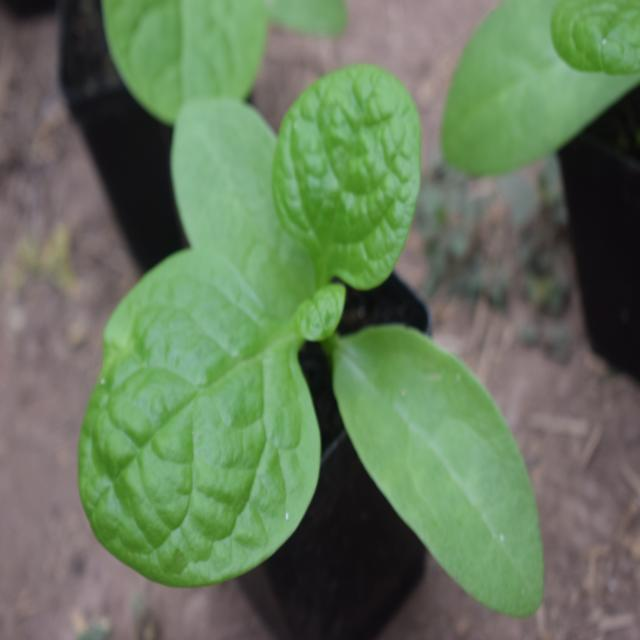Ceylon spinach: (100, 52, 551, 606)
